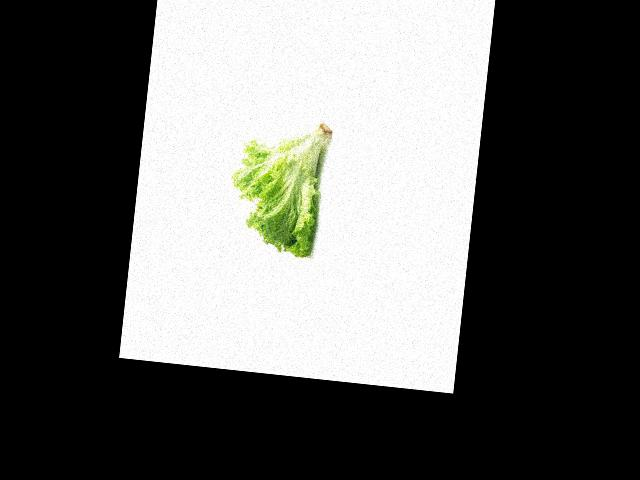lettuce: (254, 109, 353, 227)
